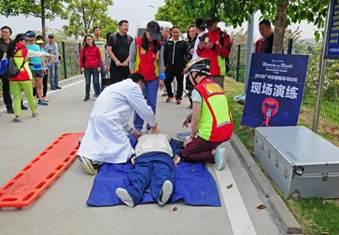10+: (1, 15, 277, 211)
down: (114, 120, 182, 209)
